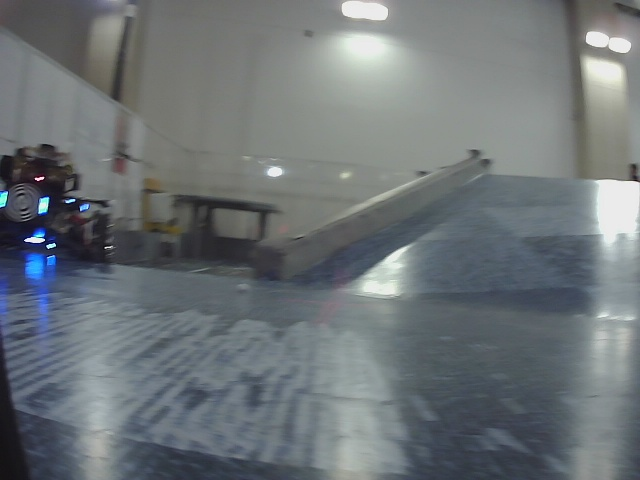lamp: (38, 197, 48, 214), (1, 191, 8, 207)
pair: (1, 191, 48, 214)
